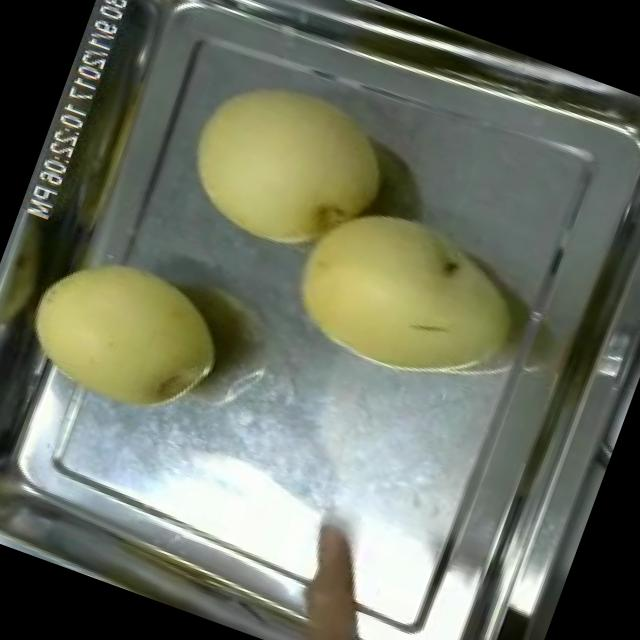Fruit: (265, 176, 548, 416), (160, 50, 412, 282), (2, 224, 248, 442)
